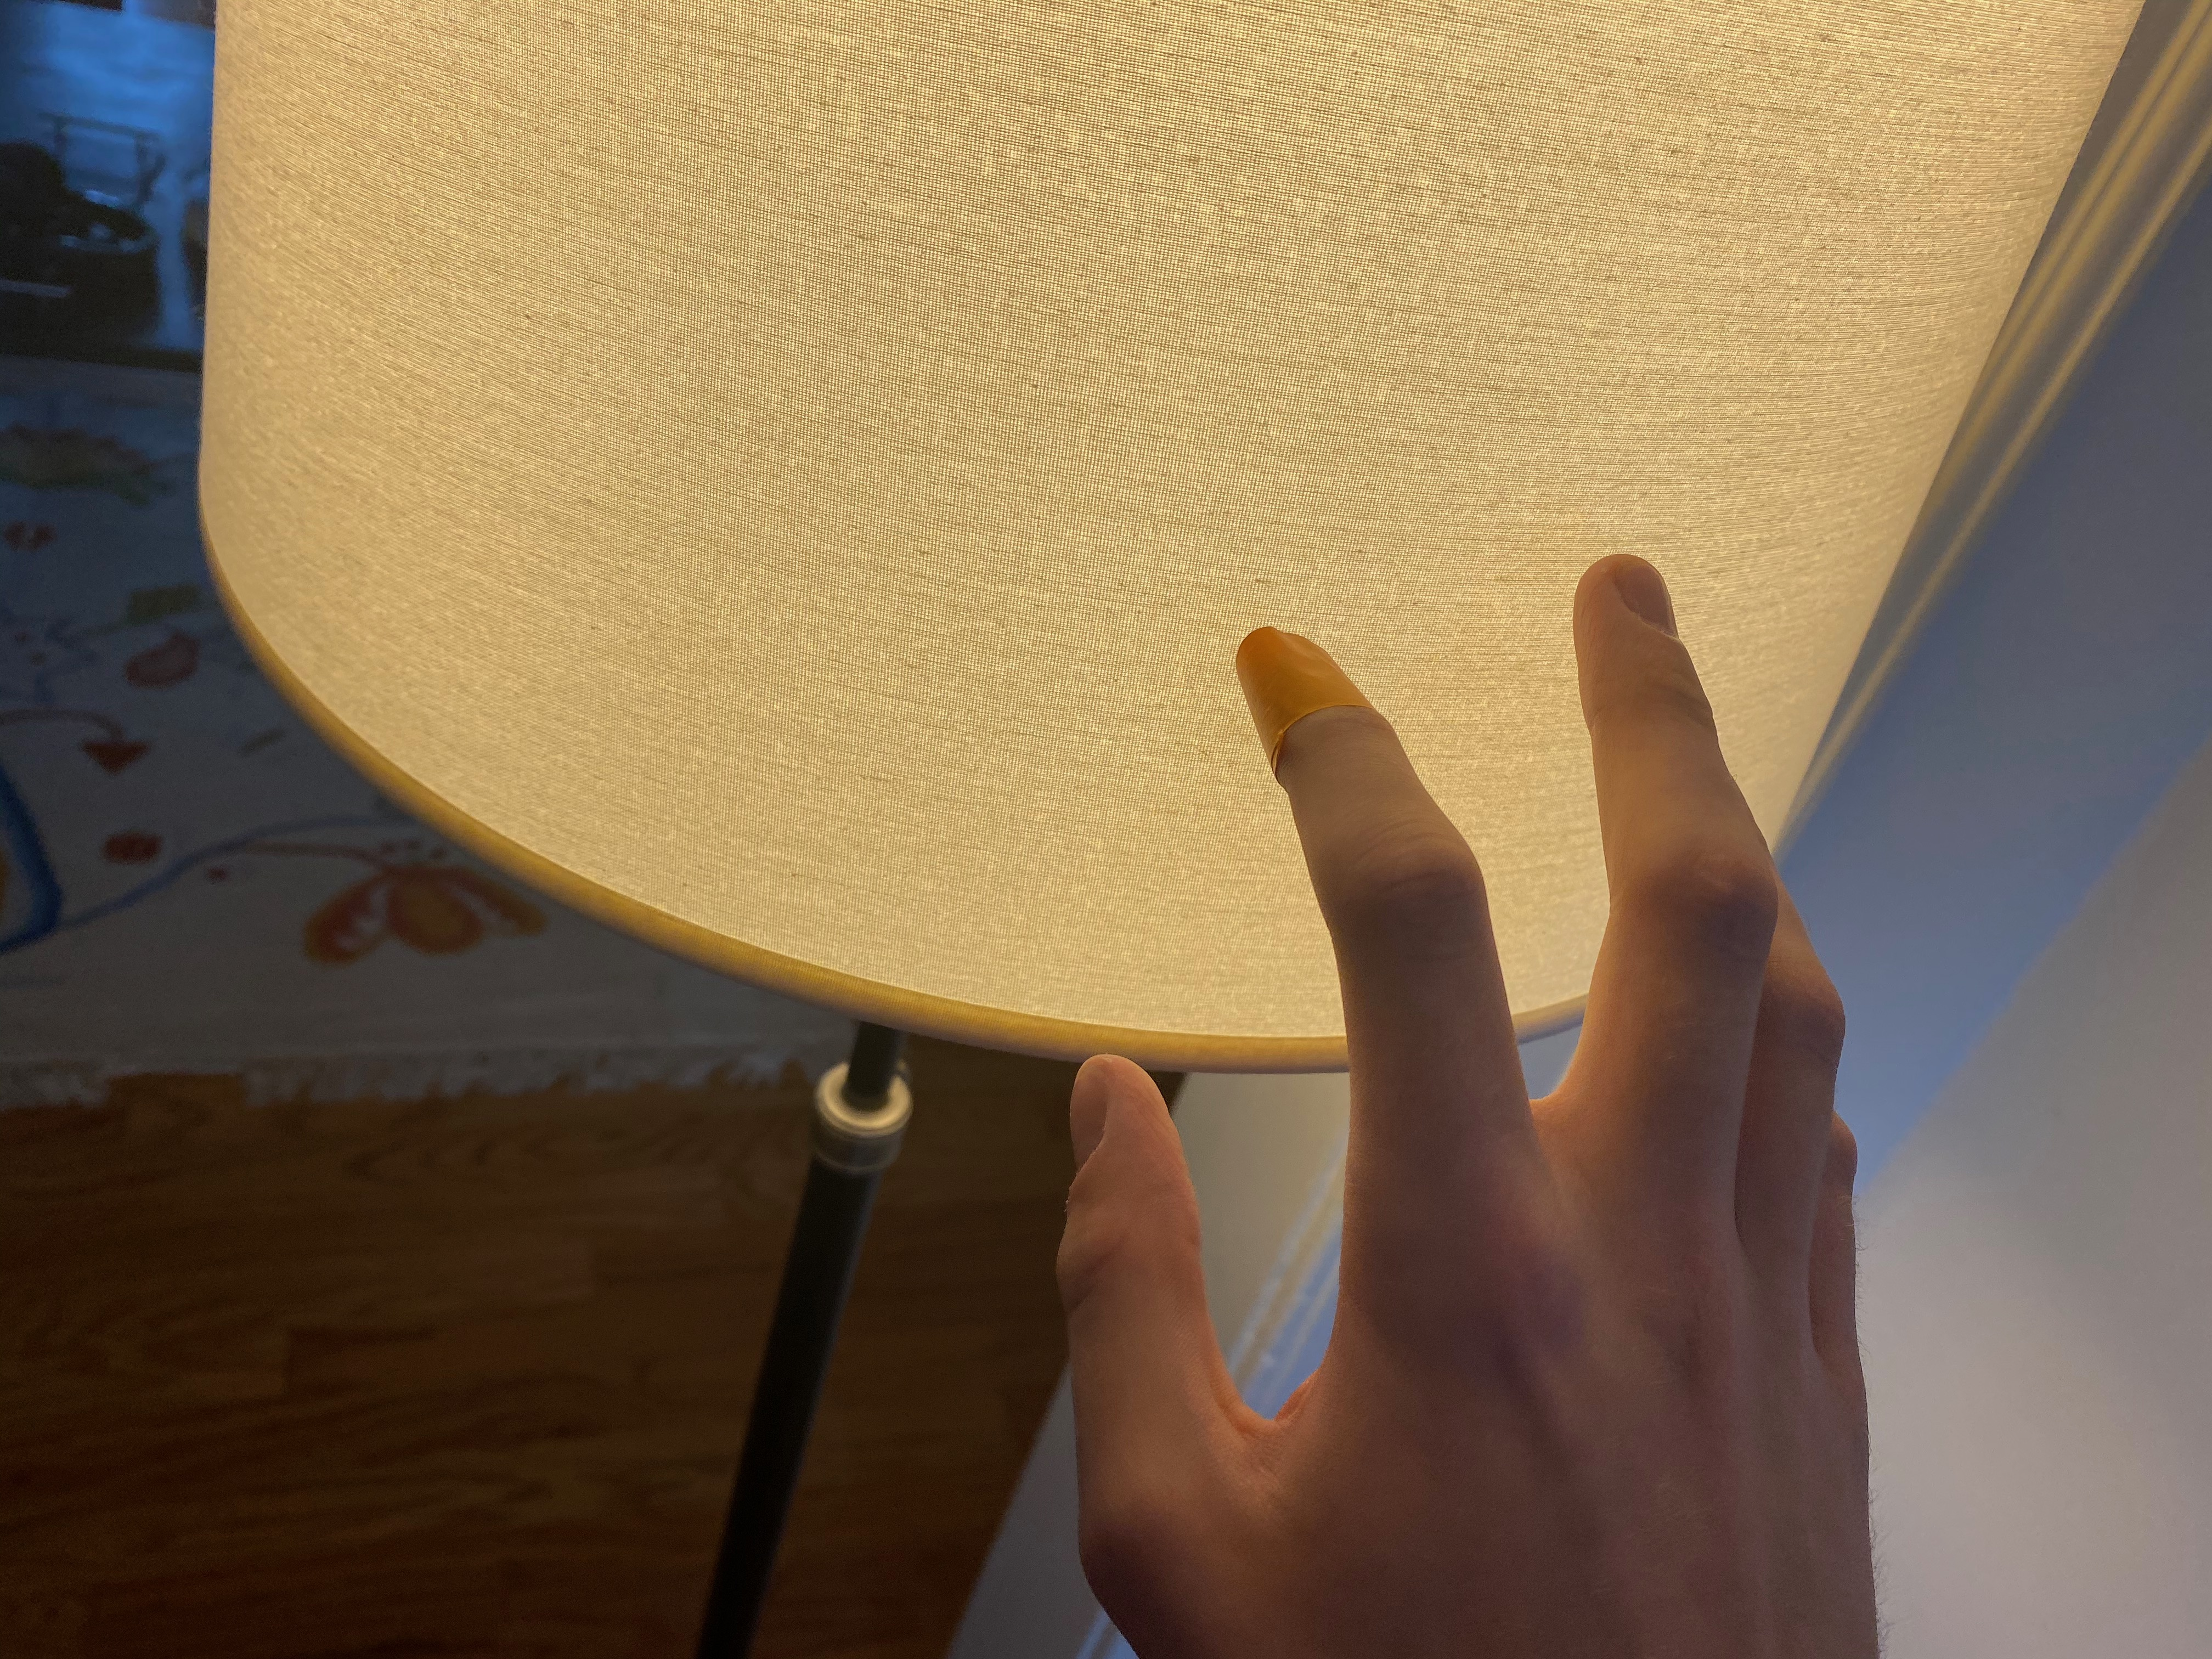fingertip: (1174, 617, 1426, 798)
